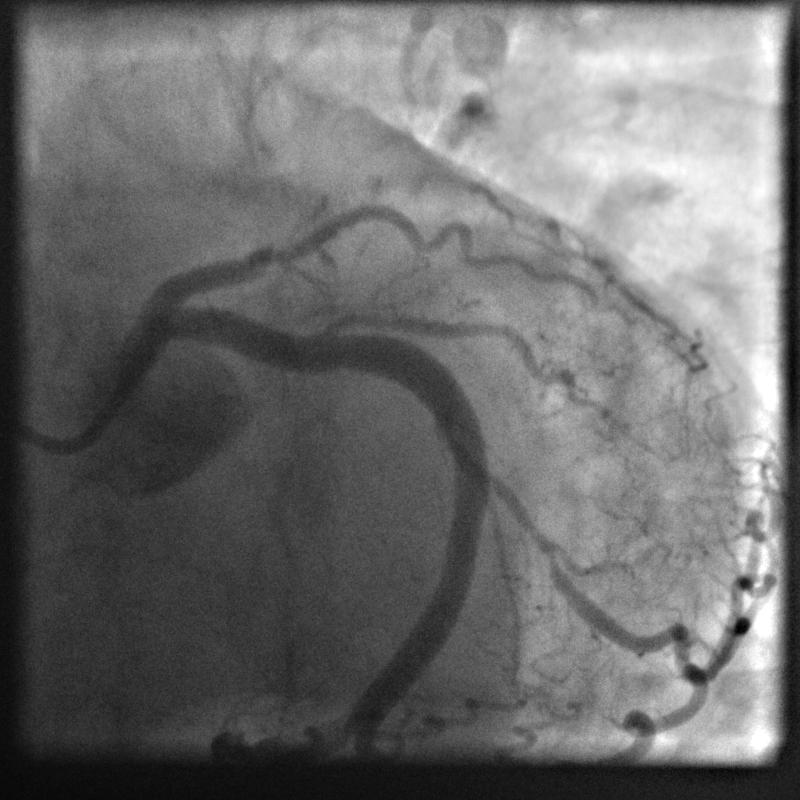Stenosis: (484, 456, 570, 586)
